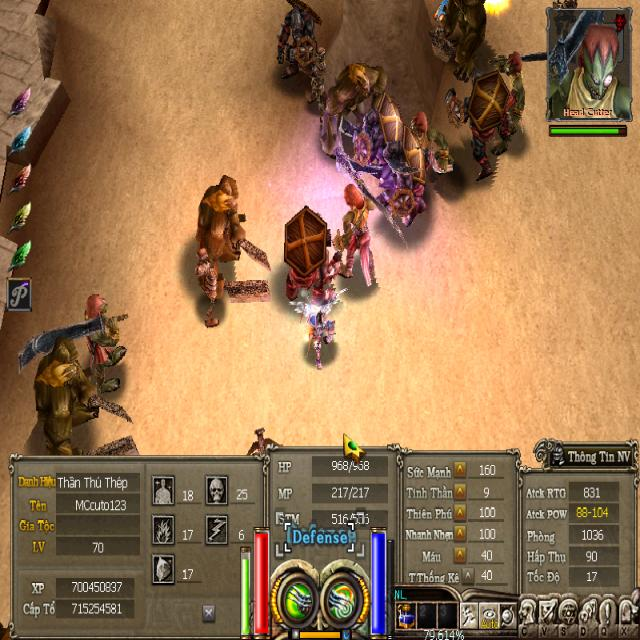monster: (190, 172, 254, 328), (31, 340, 98, 455), (392, 106, 448, 226), (333, 60, 388, 177), (460, 73, 508, 194), (78, 294, 131, 394), (335, 182, 381, 295), (500, 36, 544, 149), (281, 210, 337, 298), (436, 0, 496, 77), (278, 7, 316, 78), (312, 46, 332, 114)
